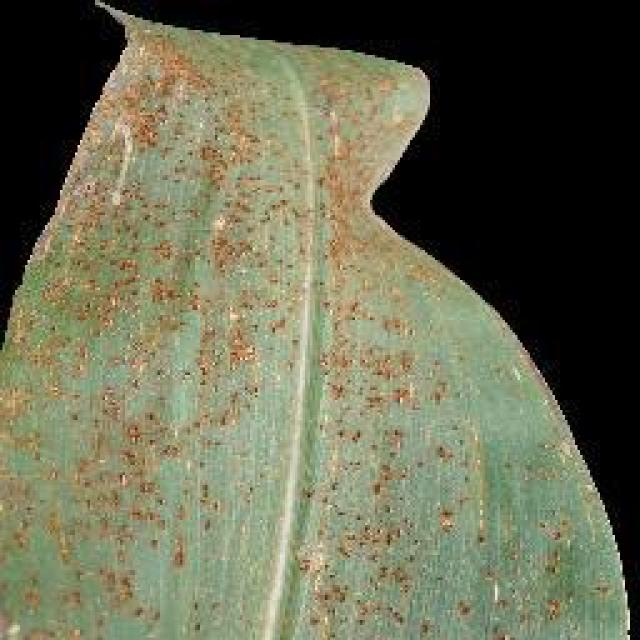Corn Common Rust: (65, 82, 598, 600)
